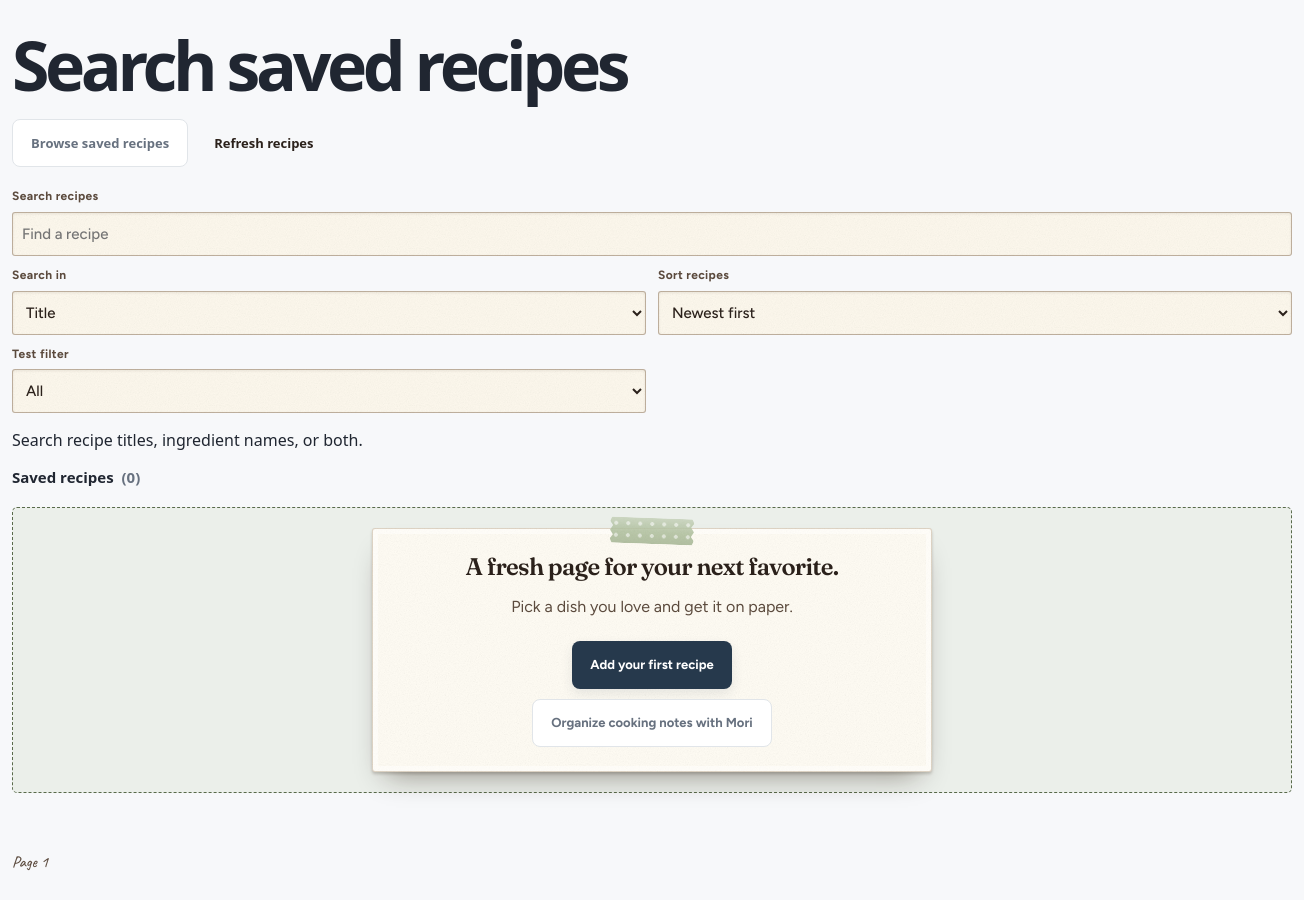
Scenario: distinguishes an empty journal from no search matches and clears the search
This screenshot has width=1304, height=900.
Expected: the heading "A fresh page for your next favorite." is shown, [466,553,838,581]
In the search field labelled "Search recipes": (652, 234) [12,212,1292,256], type "missing"
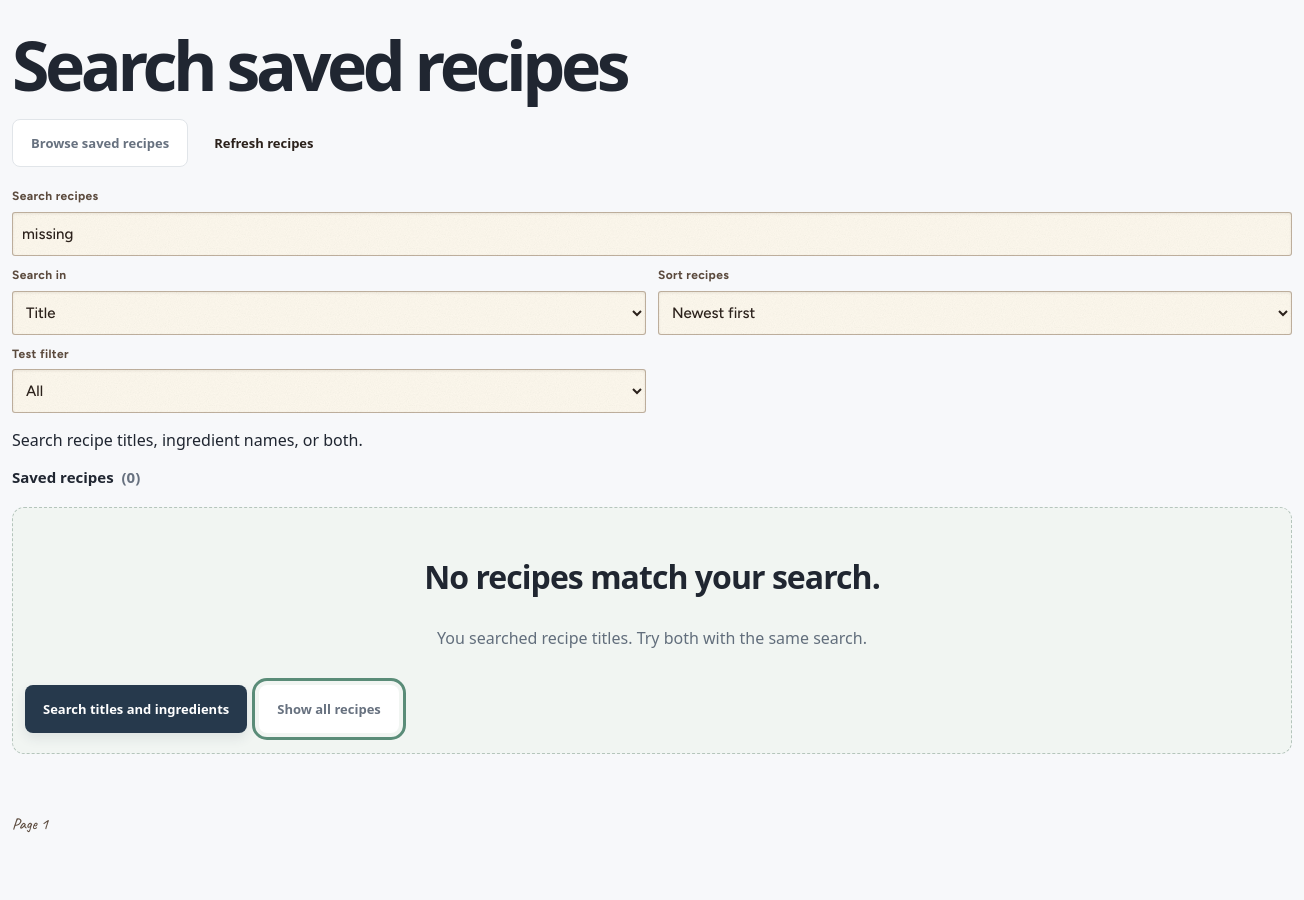
Now the heading "No recipes match your search." is shown, box [424,555,880,598]
Now the heading "fresh page" is gone
Now the text "You searched recipe titles. Try both with the same search." is shown, box [437,627,867,649]
Click the button "Show all recipes": (329, 709) [259,685,399,733]
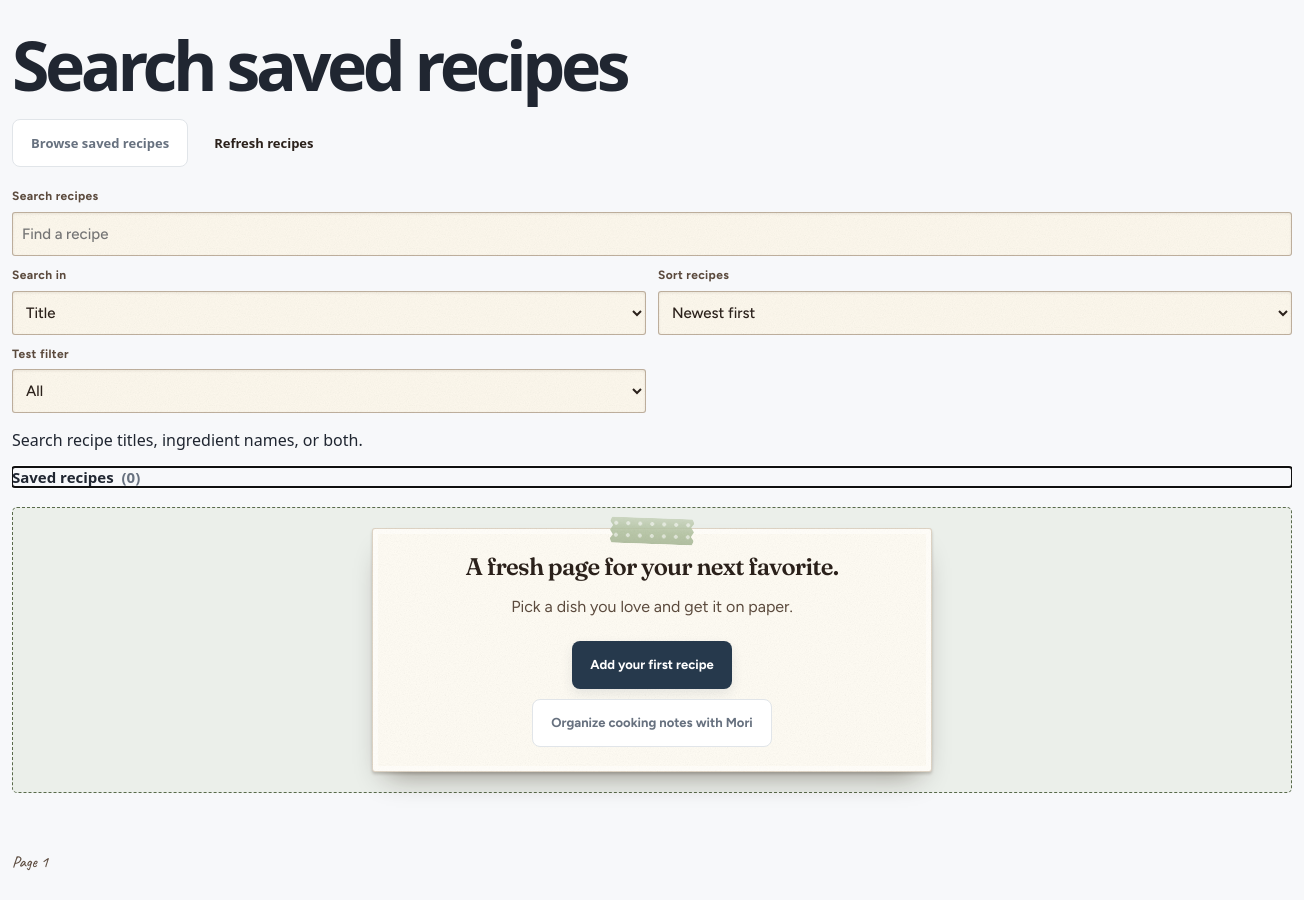
Now the heading "A fresh page for your next favorite." is shown, box [466,553,838,581]
Now the search field is empty, box [12,212,1292,256]
